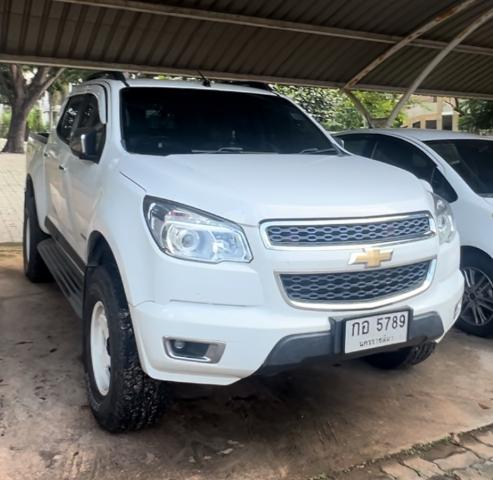pickup-truck: (17, 67, 468, 437)
